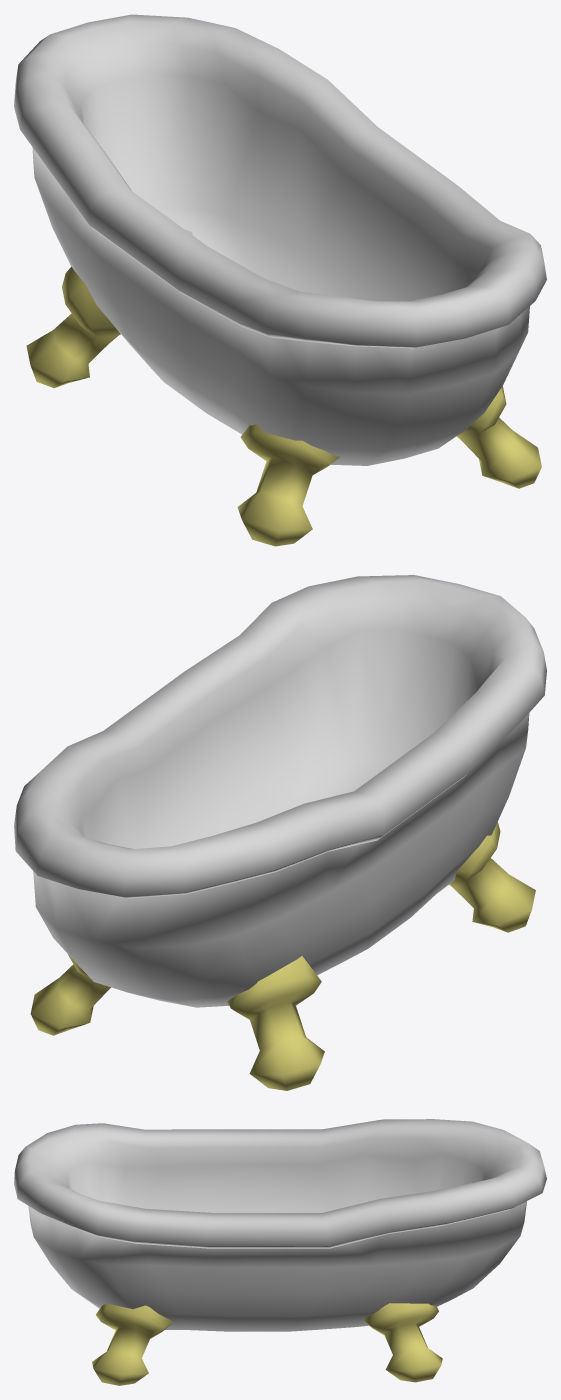
The model's file is BathTub.fbx.
3 views of the same model, one above another, from view 1: azimuth 30°, elevation 25°; view 2: azimuth 150°, elevation 25°; view 3: azimuth 270°, elevation 25° (orthographic). The views are drawn at different scales.
Parts seen in each view (by area): view 1: BathTub, BathTubLegs; view 2: BathTub, BathTubLegs; view 3: BathTub, BathTubLegs.
Boxes of the visible parts, x1,y1,x2,y2 form: BathTub: (14, 14, 546, 465); BathTubLegs: (26, 267, 541, 546); BathTub: (14, 575, 546, 1007); BathTubLegs: (30, 822, 535, 1090); BathTub: (14, 1119, 546, 1331); BathTubLegs: (92, 1303, 442, 1385).
Bounding box in the file's own units: 0.9714 × 0.8238 × 2.19.
